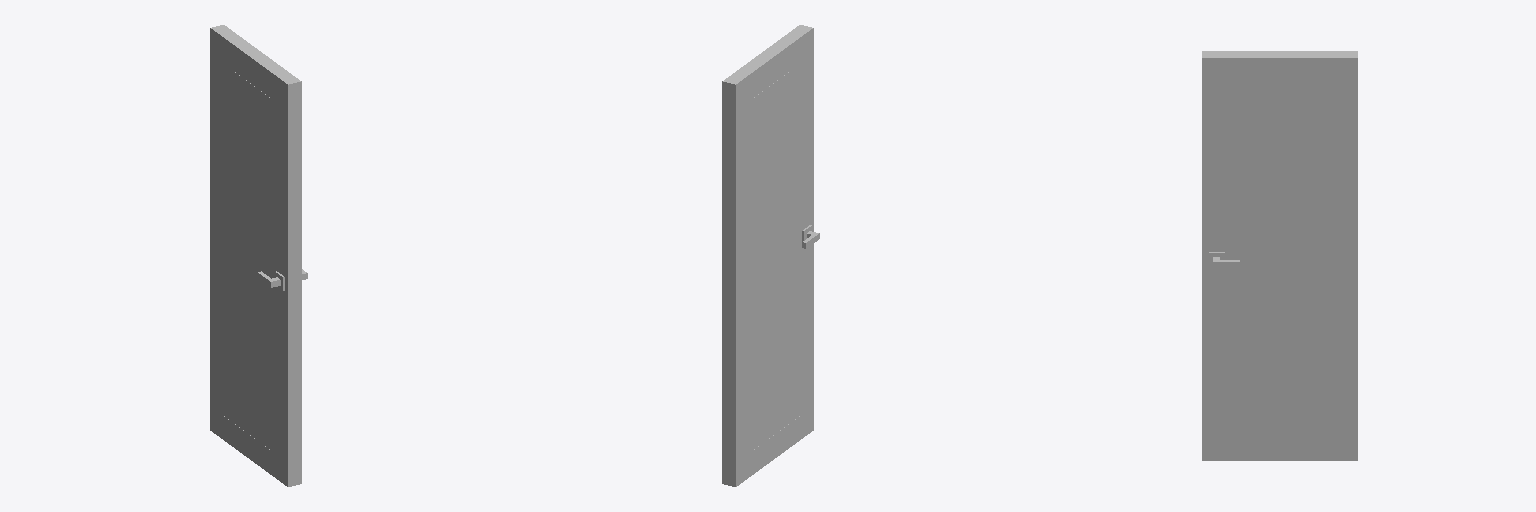
File: door703_grey.obj
3 views of the same model, side by side, from view 1: azimuth 30°, elevation 25°; view 2: azimuth 150°, elevation 25°; view 3: azimuth 270°, elevation 25° (orthographic).
Parts seen in each view (by area): view 1: Cube; view 2: Cube; view 3: Cube.
Part boxes in pixels (x1,y1,x2,y2): Cube: (210, 25, 307, 486); Cube: (722, 25, 819, 486); Cube: (1202, 51, 1357, 460).
Bounding box in the file's own units: 0.1899 × 2 × 0.7.